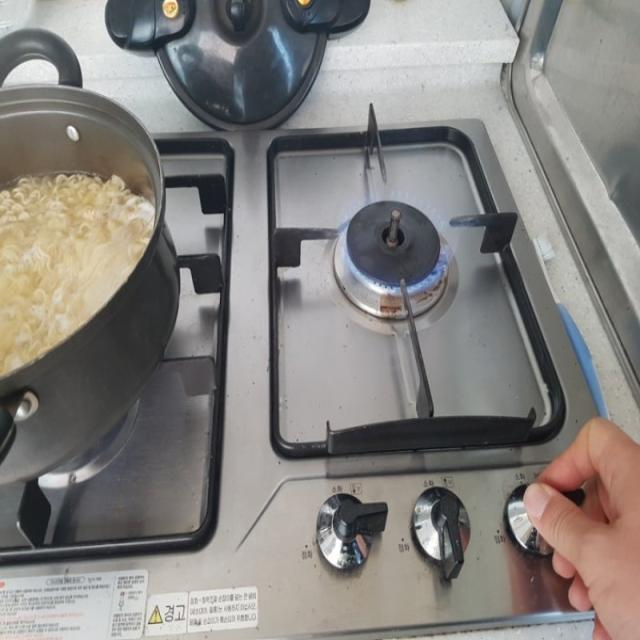knob_OFF: (275, 146, 532, 387)
